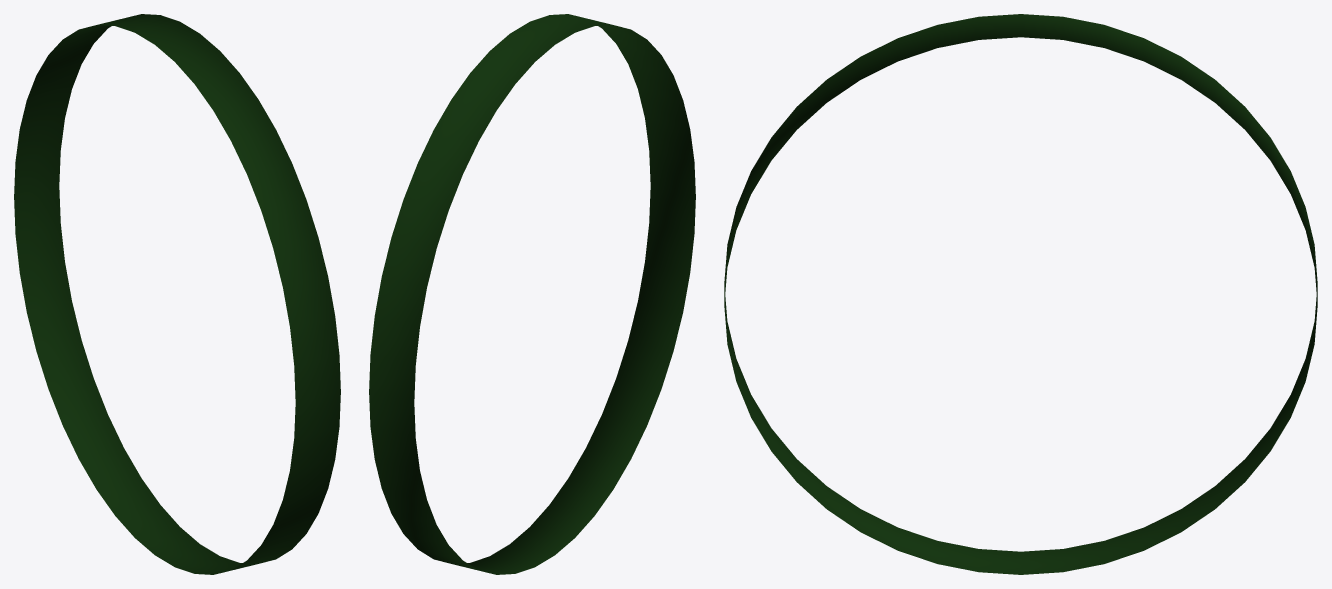
The picture shows the model from 3 angles, left to right: view 1: azimuth 30°, elevation 25°; view 2: azimuth 150°, elevation 25°; view 3: azimuth 270°, elevation 25°; orthographic projection. The views are drawn at different scales.
Parts seen in each view (by area): view 1: base_0; view 2: base_0; view 3: base_0.
Part boxes in pixels (x1=…): base_0: x1=14, y1=14, x2=340, y2=574; base_0: x1=369, y1=14, x2=695, y2=574; base_0: x1=724, y1=14, x2=1317, y2=574.
Size of the model in its own units: 0.00205 by 0.022 by 0.022.
